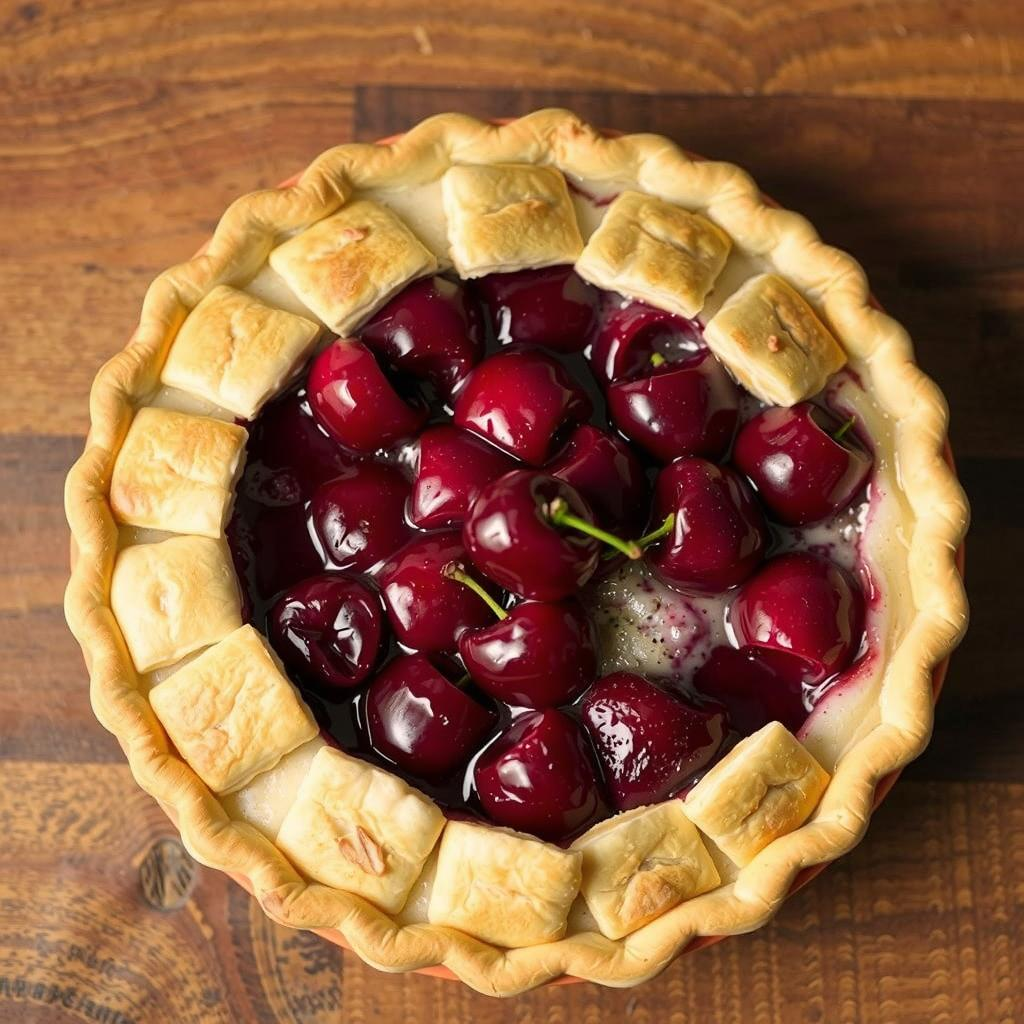pie: (56, 110, 979, 996)
